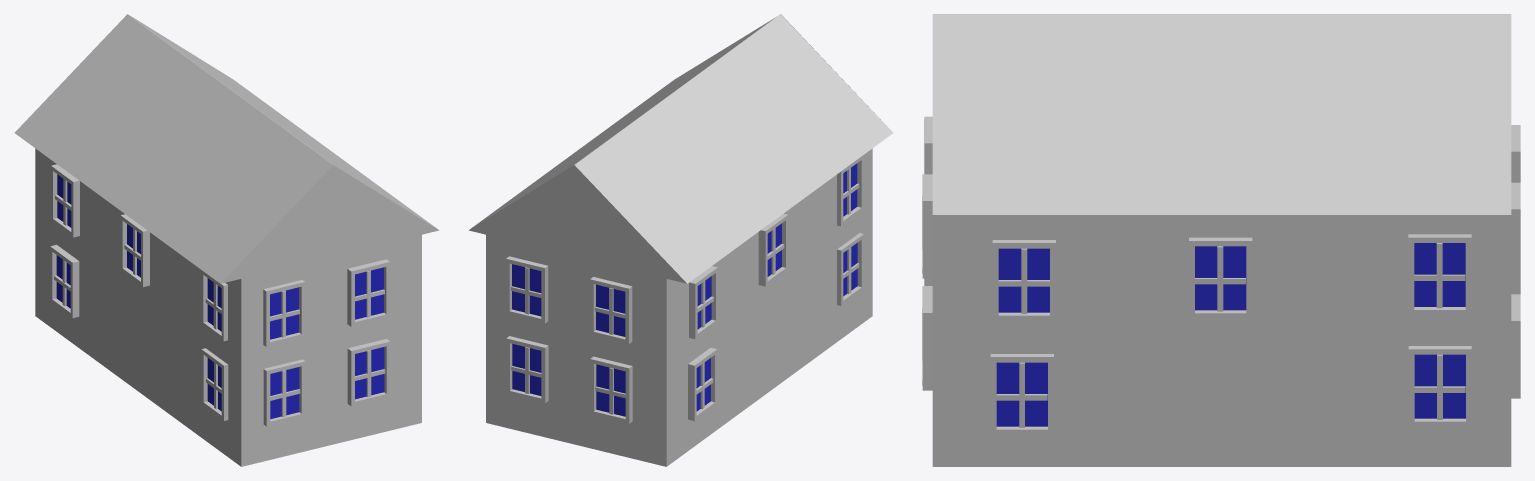
Rendered from house.fbx.
3 renders of one model, left to right at view 1: azimuth 30°, elevation 25°; view 2: azimuth 150°, elevation 25°; view 3: azimuth 270°, elevation 25°, orthographic. The views are drawn at different scales.
Parts seen in each view (by area): view 1: Roof, Walls, Windows; view 2: Roof, Walls, Windows; view 3: Walls, Roof, Windows.
Boxes of the visible parts, left/top/right/bottom form: Roof: left=14, top=14, right=439, bottom=283; Walls: left=35, top=148, right=421, bottom=466; Windows: left=50, top=164, right=390, bottom=426; Roof: left=468, top=14, right=893, bottom=283; Walls: left=486, top=148, right=872, bottom=466; Windows: left=506, top=155, right=863, bottom=423; Walls: left=932, top=215, right=1511, bottom=466; Roof: left=932, top=14, right=1511, bottom=214; Windows: left=922, top=116, right=1520, bottom=434.
Size of the model in its own units: 243 by 296 by 409.
